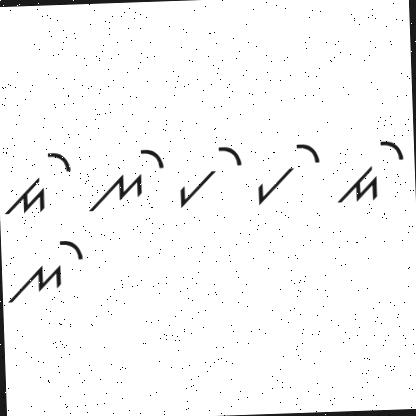day: (330, 128, 406, 208), (2, 140, 75, 220)
nay: (86, 138, 167, 222), (8, 233, 89, 306)
pay: (176, 139, 248, 219), (255, 134, 324, 213)
